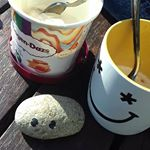cups: (86, 15, 150, 136)
